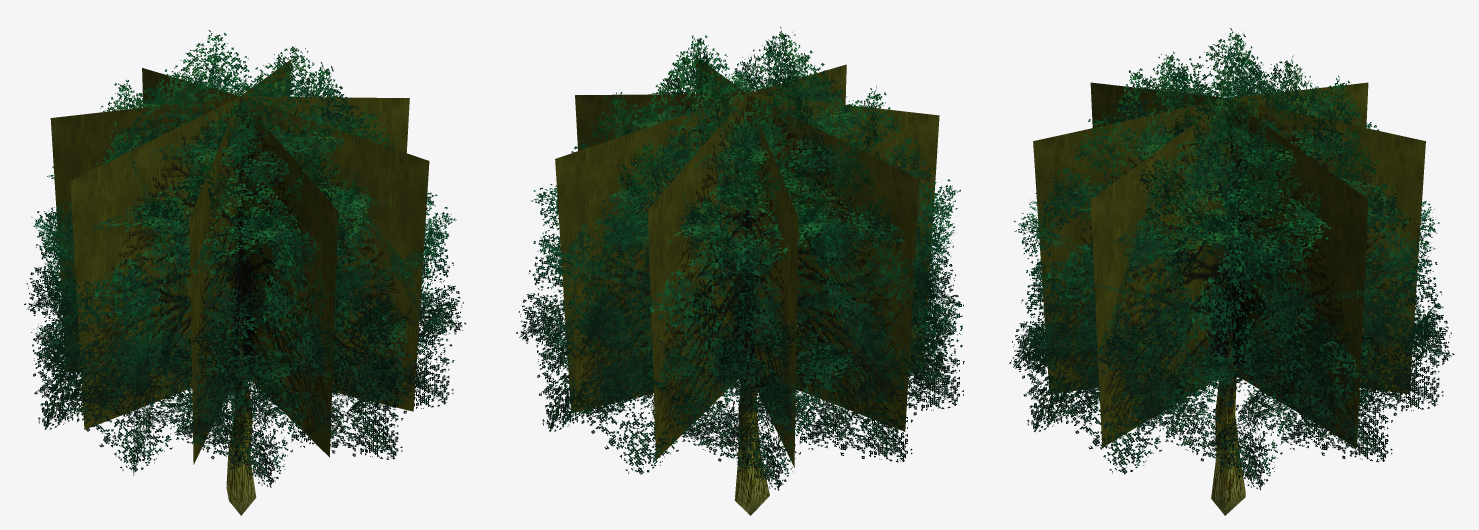
Rendered from beuk_2.fbx.
The picture shows the model from 3 angles, left to right: view 1: azimuth 30°, elevation 25°; view 2: azimuth 150°, elevation 25°; view 3: azimuth 270°, elevation 25°; orthographic projection.
Parts seen in each view (by area): view 1: beuk_2; view 2: beuk_2; view 3: beuk_2.
Boxes of the visible parts, bbox=[...] form: beuk_2: bbox=[24, 30, 466, 515]; beuk_2: bbox=[516, 26, 964, 515]; beuk_2: bbox=[1009, 28, 1454, 515].
Size of the model in its own units: 1803 by 2067 by 1830.
